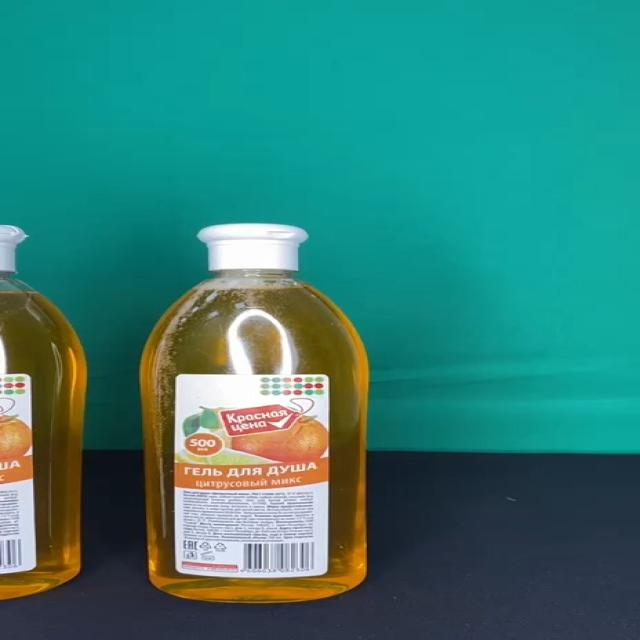Bottle: (143, 222, 371, 604)
Cap: (195, 223, 308, 272)
